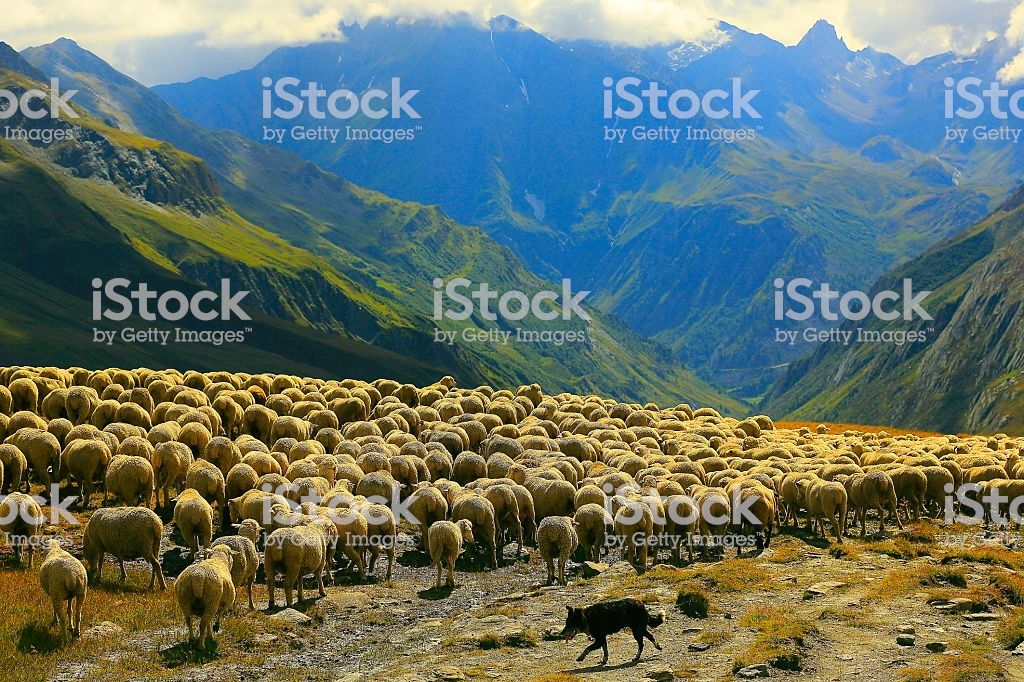sheep: (169, 540, 241, 652), (260, 515, 341, 610), (79, 504, 168, 588), (28, 536, 92, 643), (428, 516, 477, 600), (535, 514, 578, 586)
